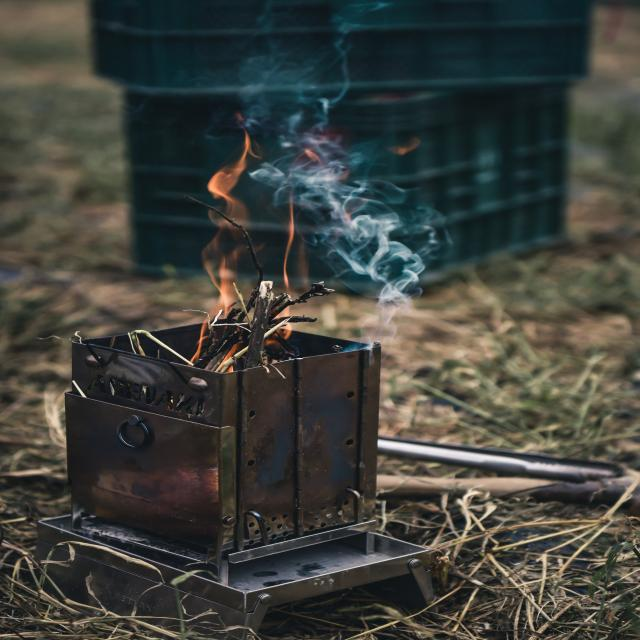Smoke: (284, 163, 454, 302)
